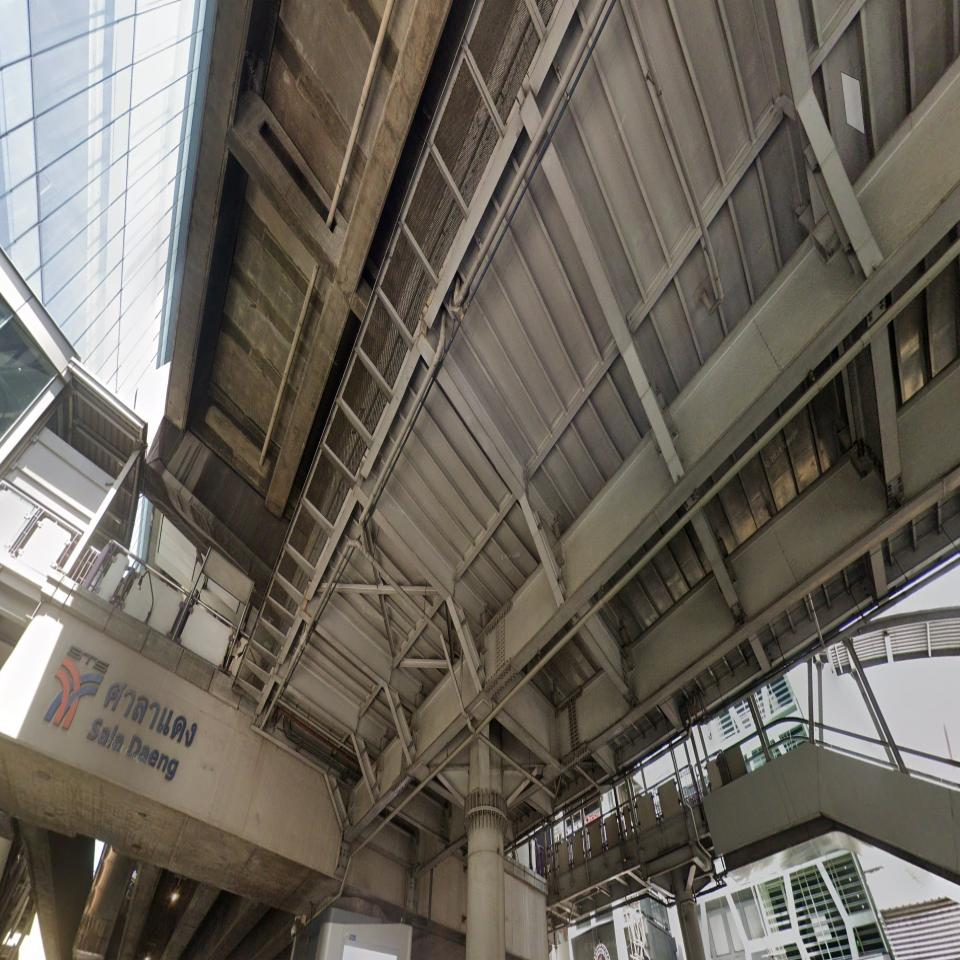Sala Daeng: (43, 644, 198, 784), (87, 680, 198, 783)
